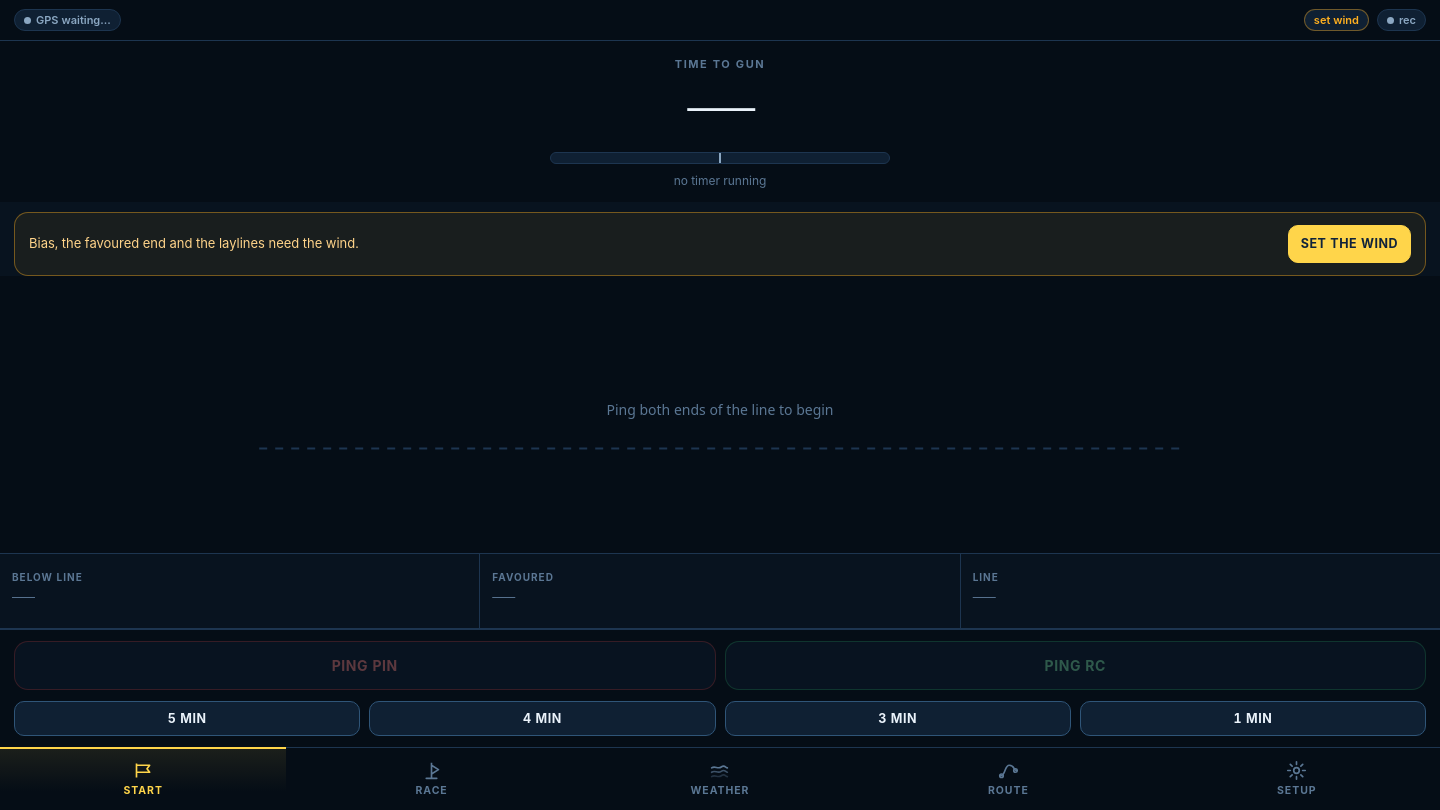
it: the wind chip says what the wind rests on › opens the wind sheet, where a wind set takes effect at once
This screenshot has width=1440, height=810.
Click the button with aria-label "Wind:". click: (1336, 20)
box: [1304,9,1369,31]
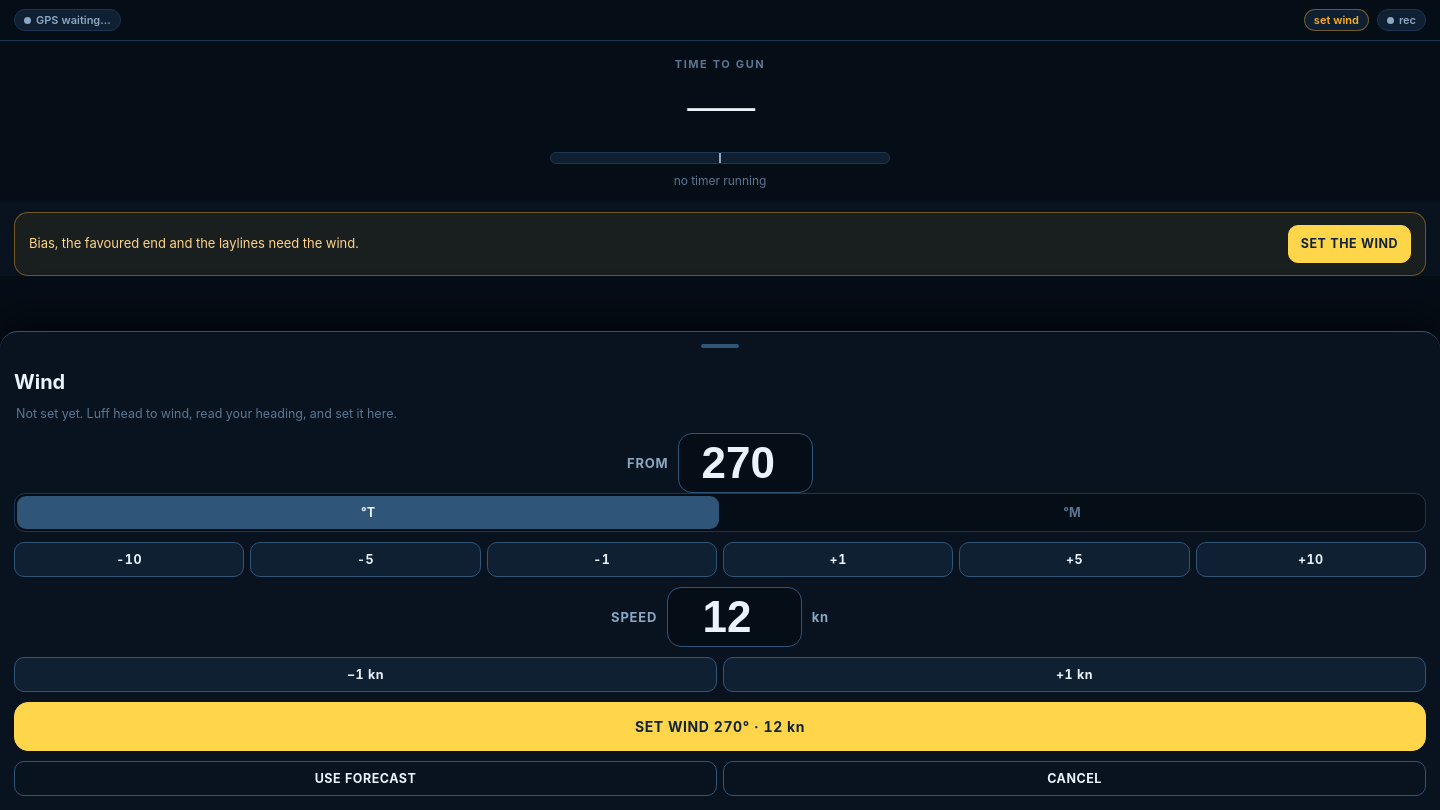
Result: the dialog named "Set the wind" is shown at [0,331,1439,809]
# Stepping from the placeholder: the sailor still has to confirm it.
Click the button "+5". click: (1074, 560)
box: [959,542,1190,577]
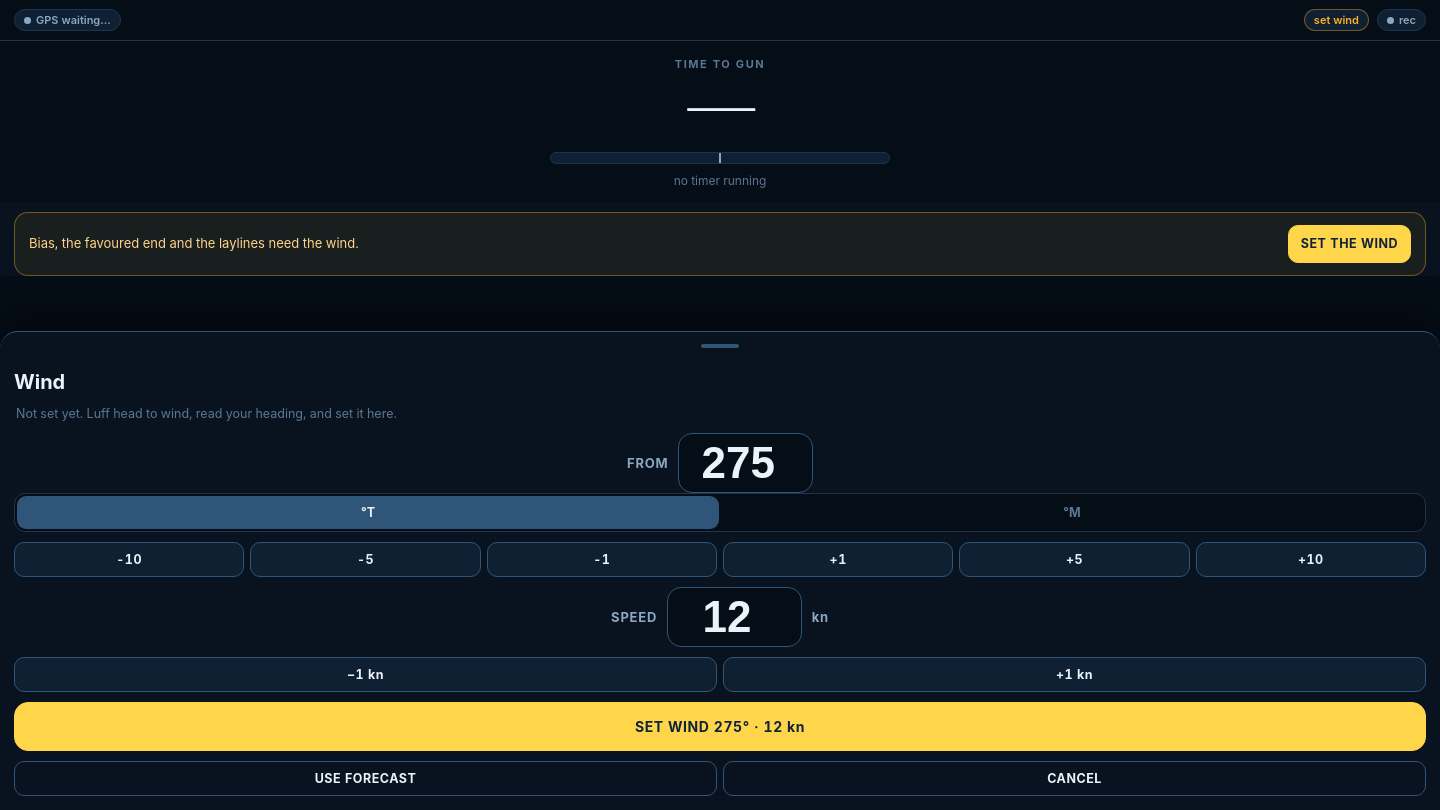
Click the button "+5". click: (1074, 560)
box: [959,542,1190,577]
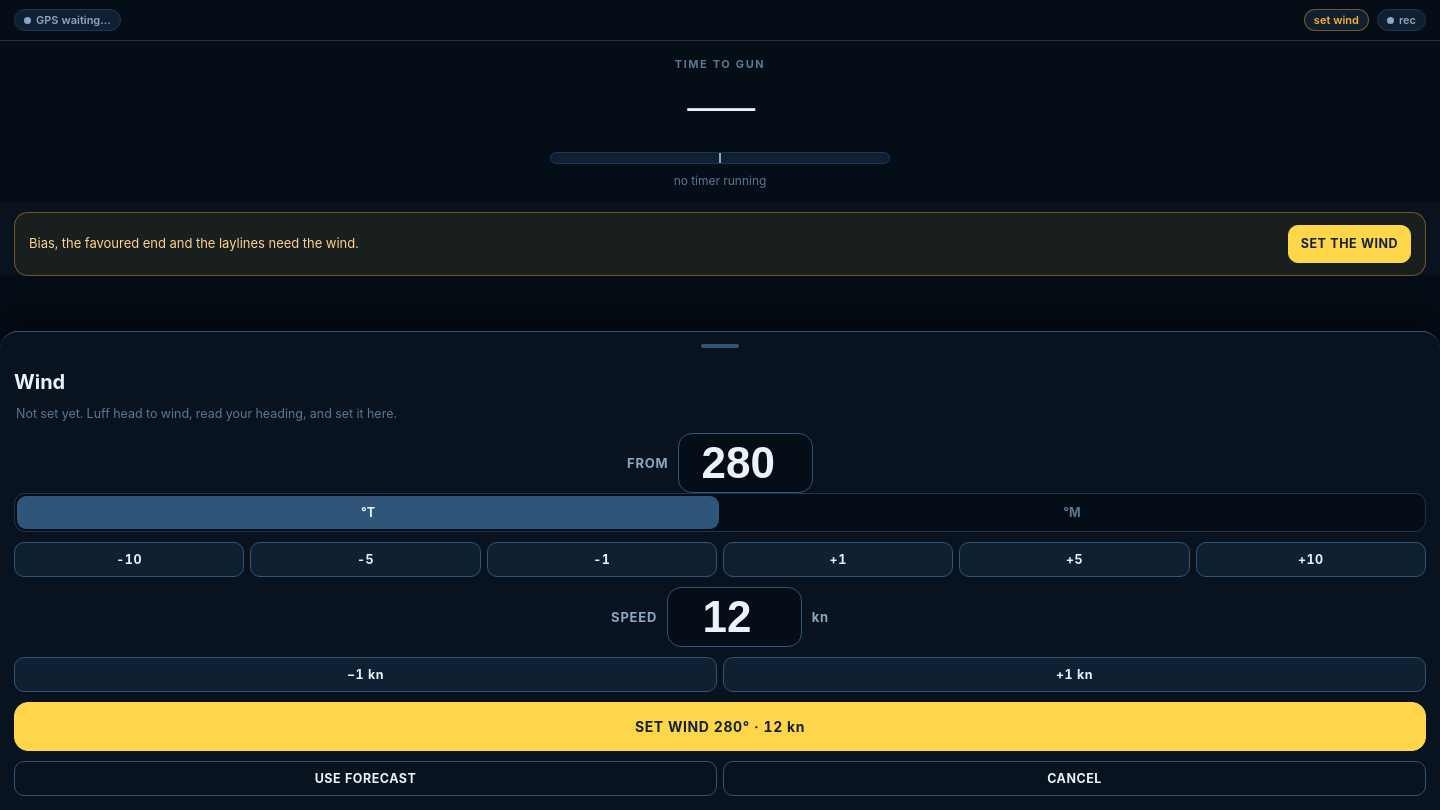
Click the button "SET WIND 280° · 12 kn". click: (720, 726)
box: [14,702,1426,751]
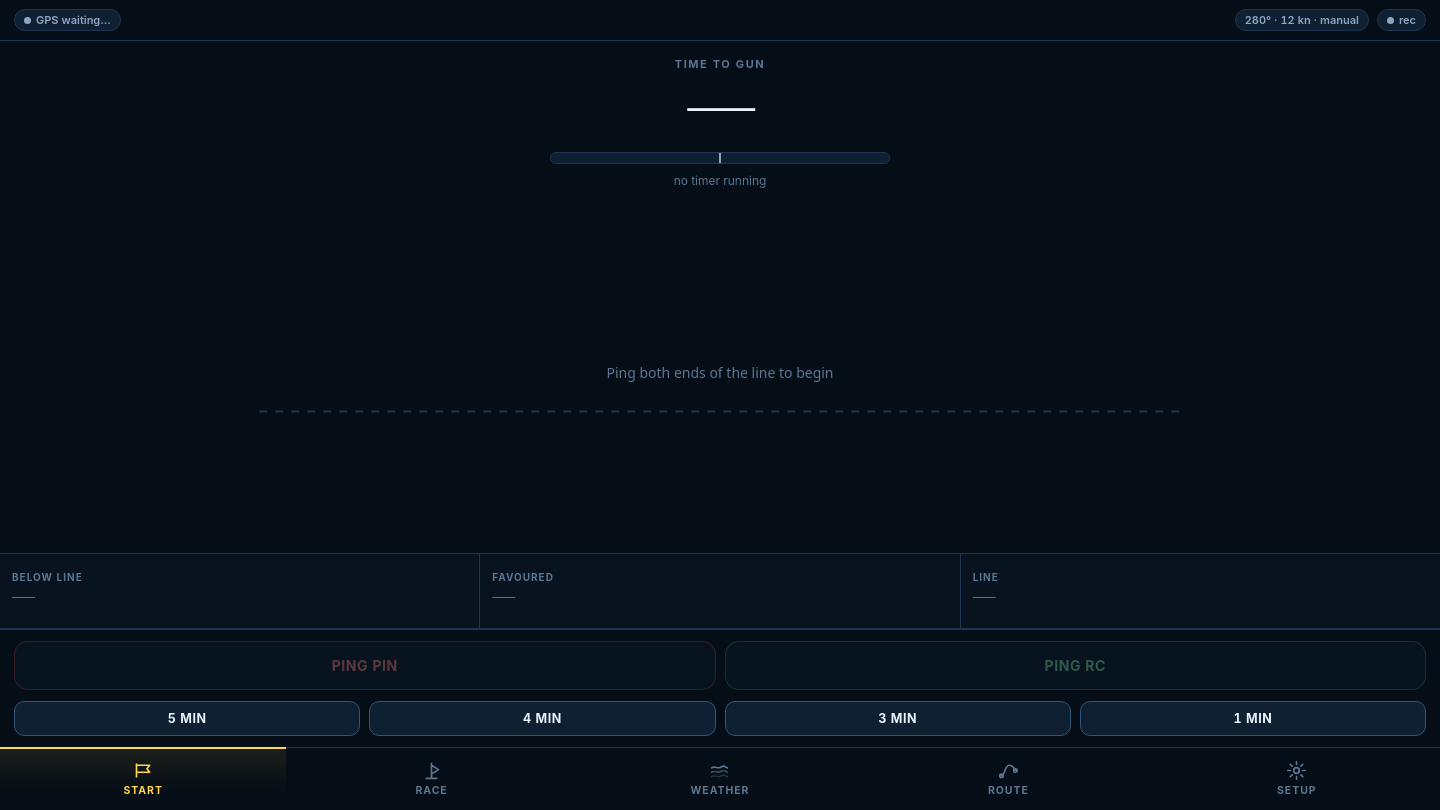
Result: the button "SET THE WIND" is gone
